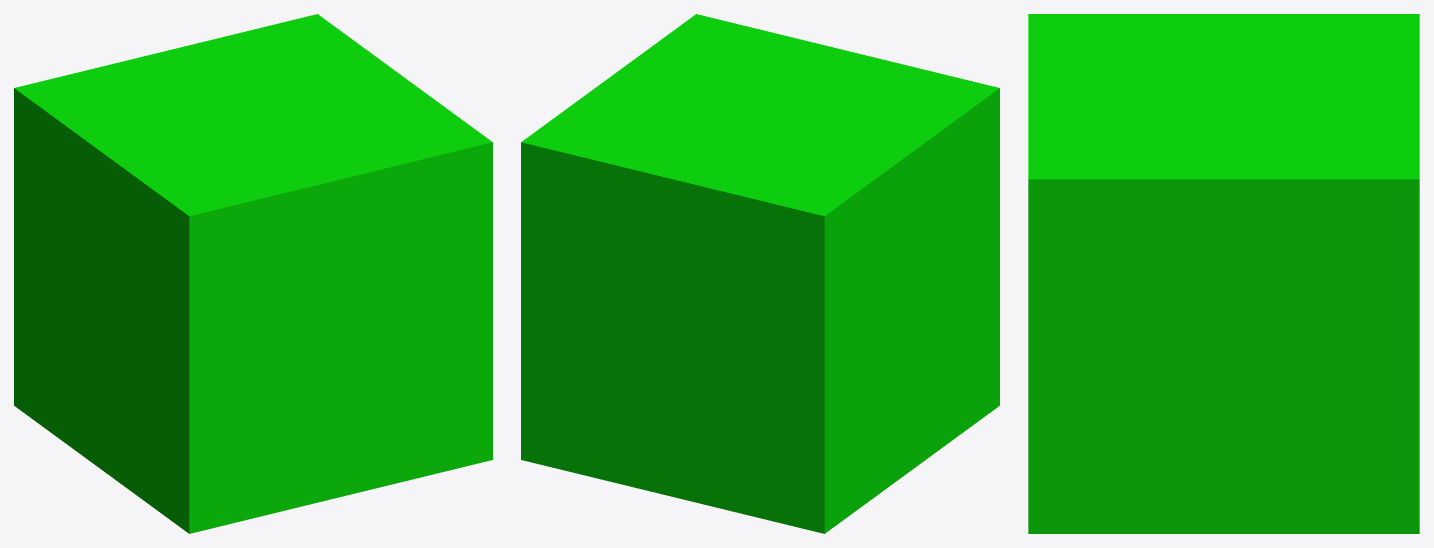
The model's file is Enemy.fbx.
3 renders of one model, left to right at view 1: azimuth 30°, elevation 25°; view 2: azimuth 150°, elevation 25°; view 3: azimuth 270°, elevation 25°, orthographic. The views are drawn at different scales.
Visible parts, largest first — view 1: pCube1; view 2: pCube1; view 3: pCube1.
Boxes of the visible parts, x1,y1,x2,y2 form: pCube1: (14,14,492,533); pCube1: (521,14,999,533); pCube1: (1028,14,1419,533).
Bounding box in the file's own units: 100 × 100 × 100.
